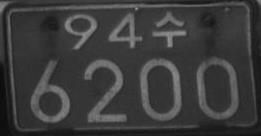0: (139, 57, 182, 123), (196, 56, 239, 121)
2: (82, 58, 127, 124)
4: (107, 11, 143, 48)
6: (29, 58, 71, 124)
9: (63, 11, 98, 50)
수: (152, 11, 187, 48)
